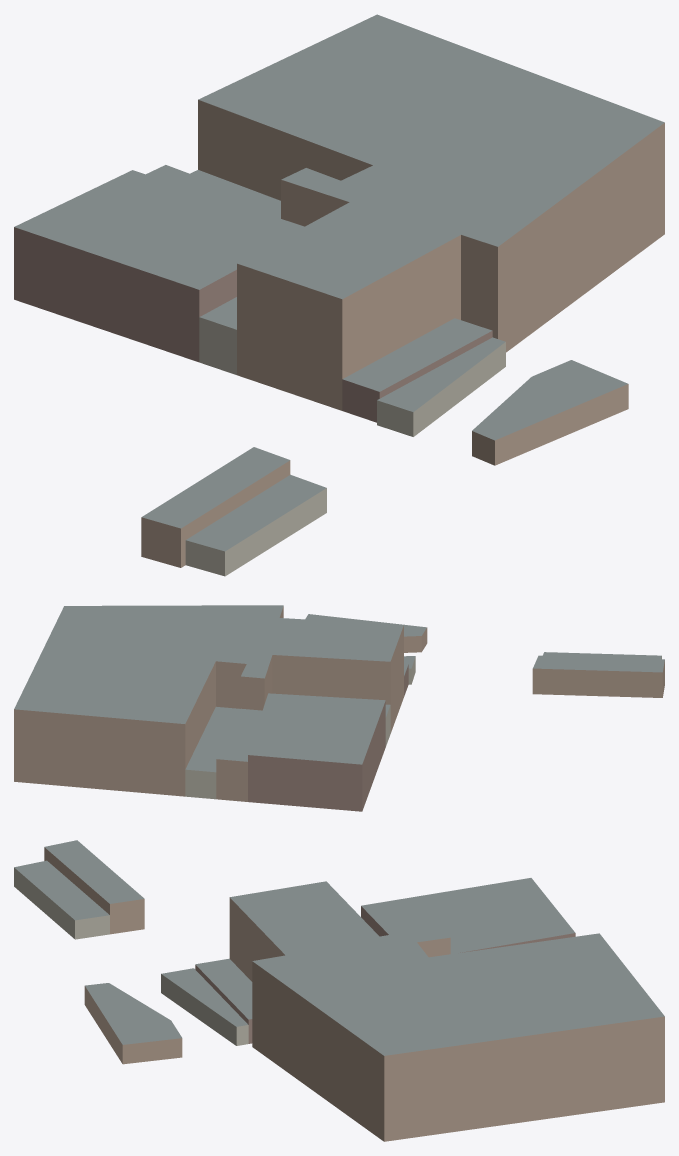
The model's file is context-0-0.gltf.
The picture shows the model from 3 angles, top to bottom: view 1: azimuth 30°, elevation 25°; view 2: azimuth 150°, elevation 25°; view 3: azimuth 270°, elevation 25°; orthographic projection. The views are drawn at different scales.
Visible parts, largest first — view 1: context-0-0; view 2: context-0-0; view 3: context-0-0.
Boxes of the visible parts, box(x1,y1,x2,y2) form: context-0-0: box(14, 14, 664, 576); context-0-0: box(14, 605, 664, 811); context-0-0: box(14, 840, 664, 1141).
Bounding box in the file's own units: 136 × 20.12 × 138.
